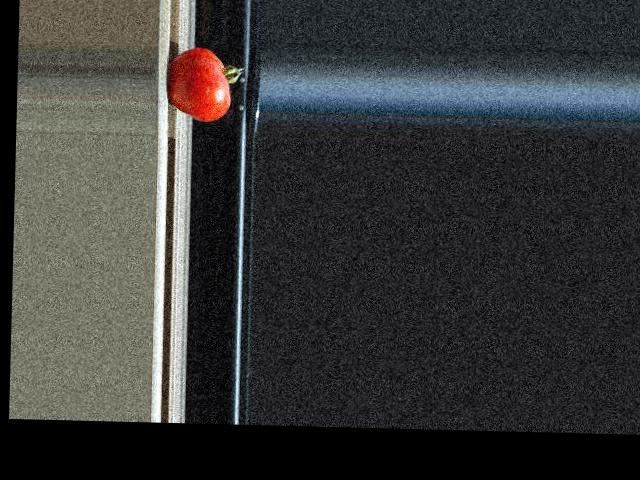tomato: (168, 46, 244, 121)
